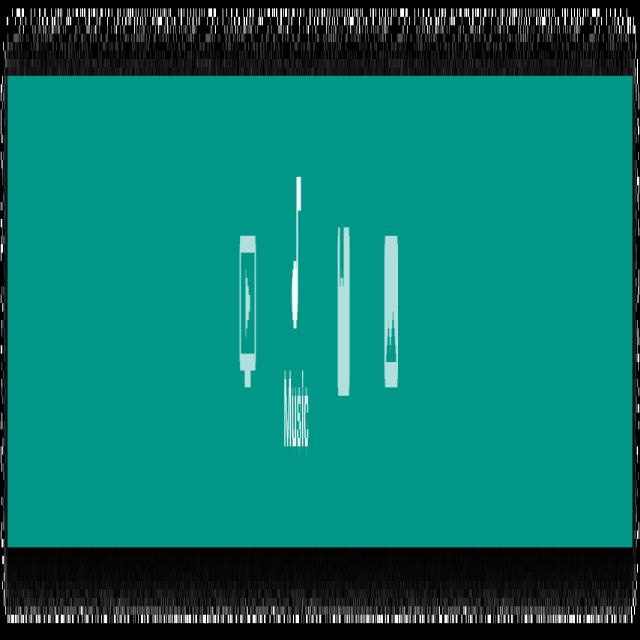QLabel: (283, 374, 308, 465)
VBottomNavigation: (5, 62, 635, 575)
VIcon: (238, 221, 257, 401), (383, 221, 399, 397), (337, 214, 350, 402), (290, 163, 302, 339)
